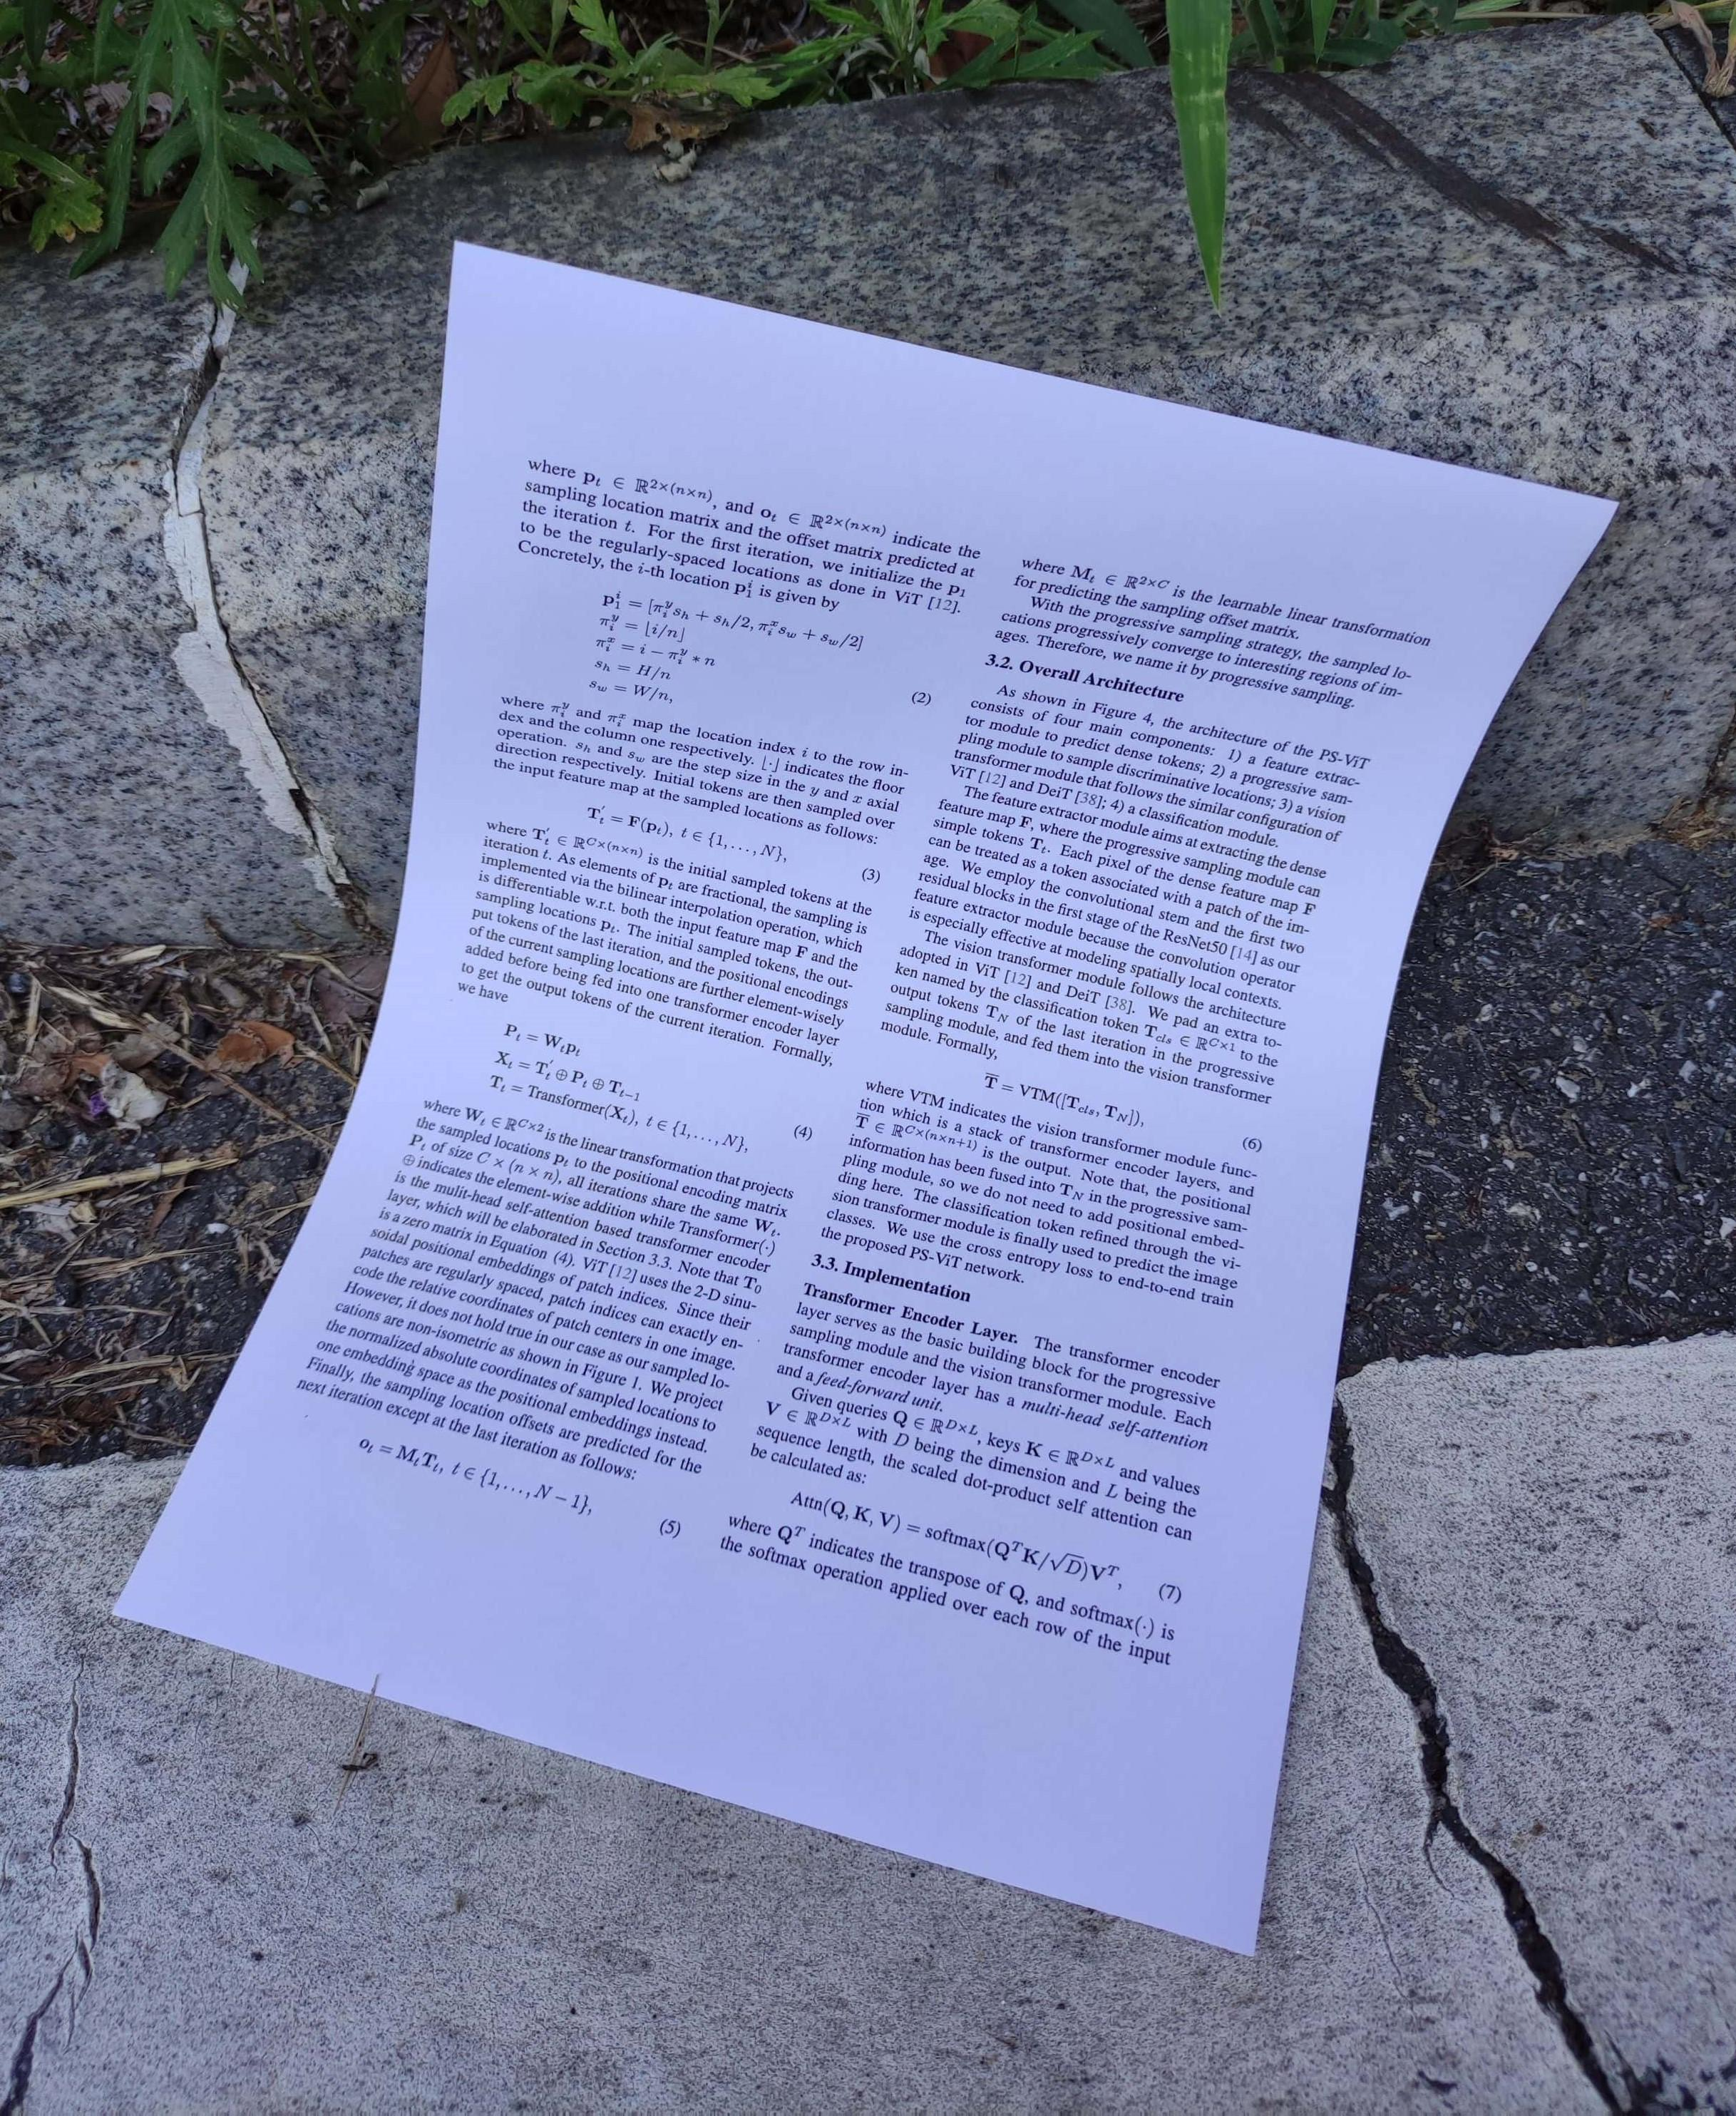paper: (90, 69, 1697, 2065)
